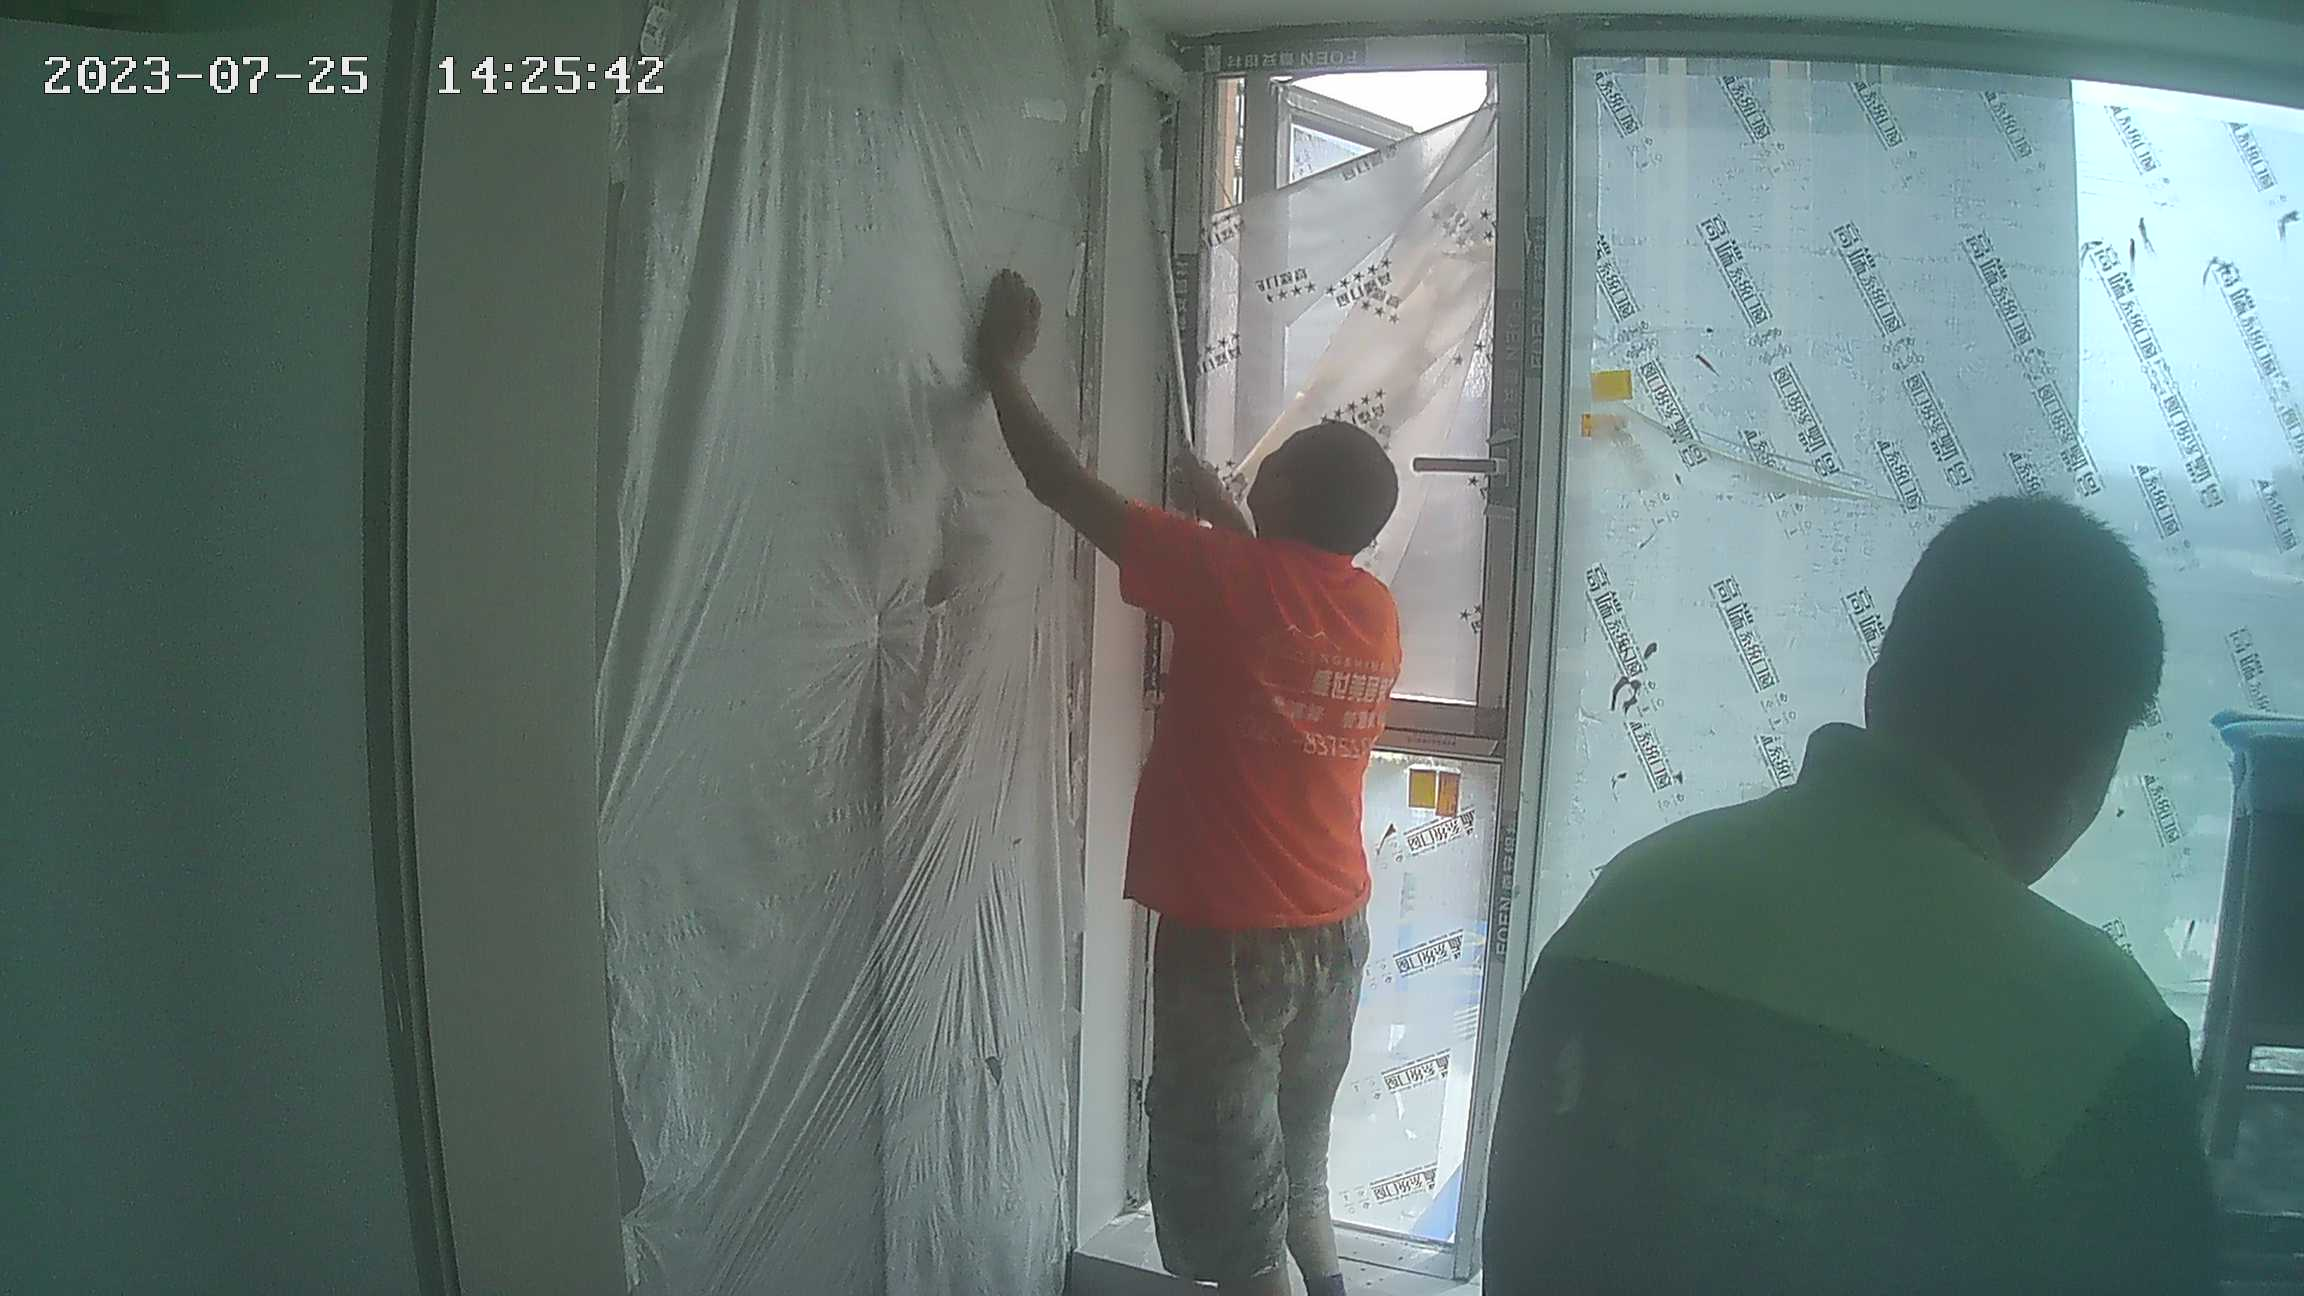people: (1478, 483, 2234, 1295), (972, 273, 1402, 1295)
window: (1197, 34, 2304, 1268)
